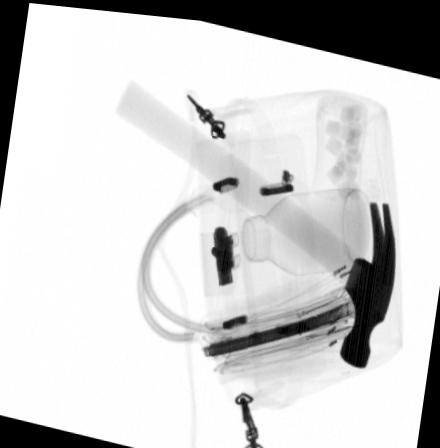Hammer: (113, 75, 396, 358)
